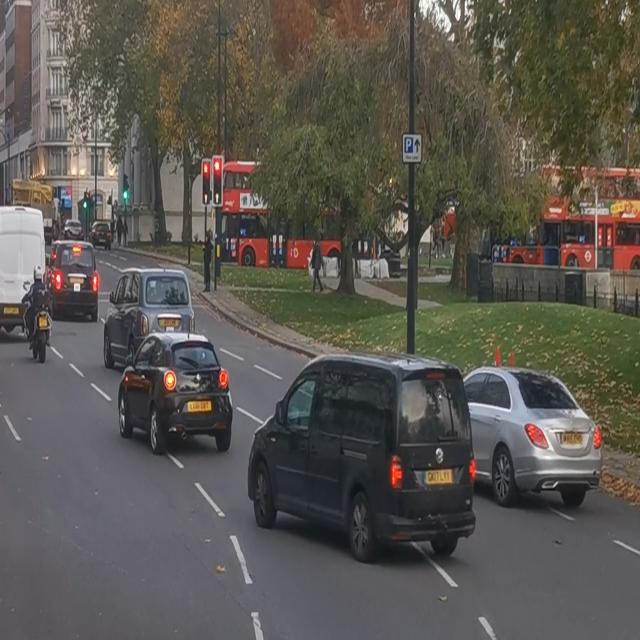Car: (244, 351, 476, 558), (465, 365, 606, 501), (116, 339, 233, 458), (106, 266, 198, 366), (0, 203, 44, 343), (51, 241, 101, 324)
